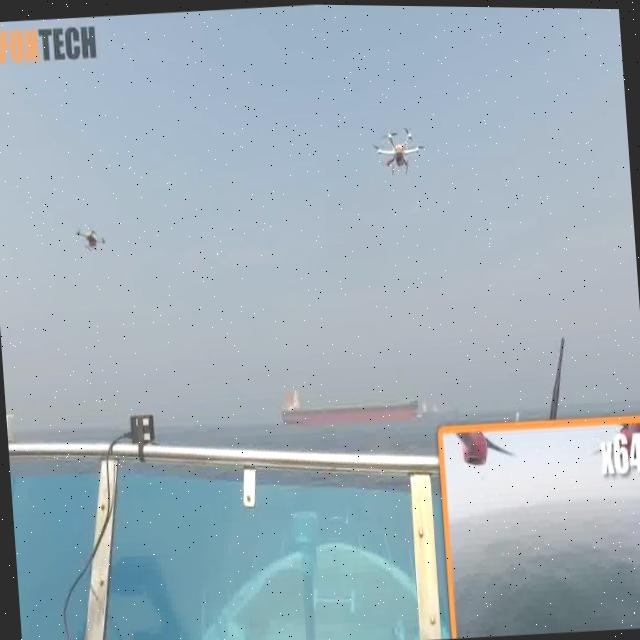drone: (369, 114, 427, 181), (66, 210, 109, 267)
